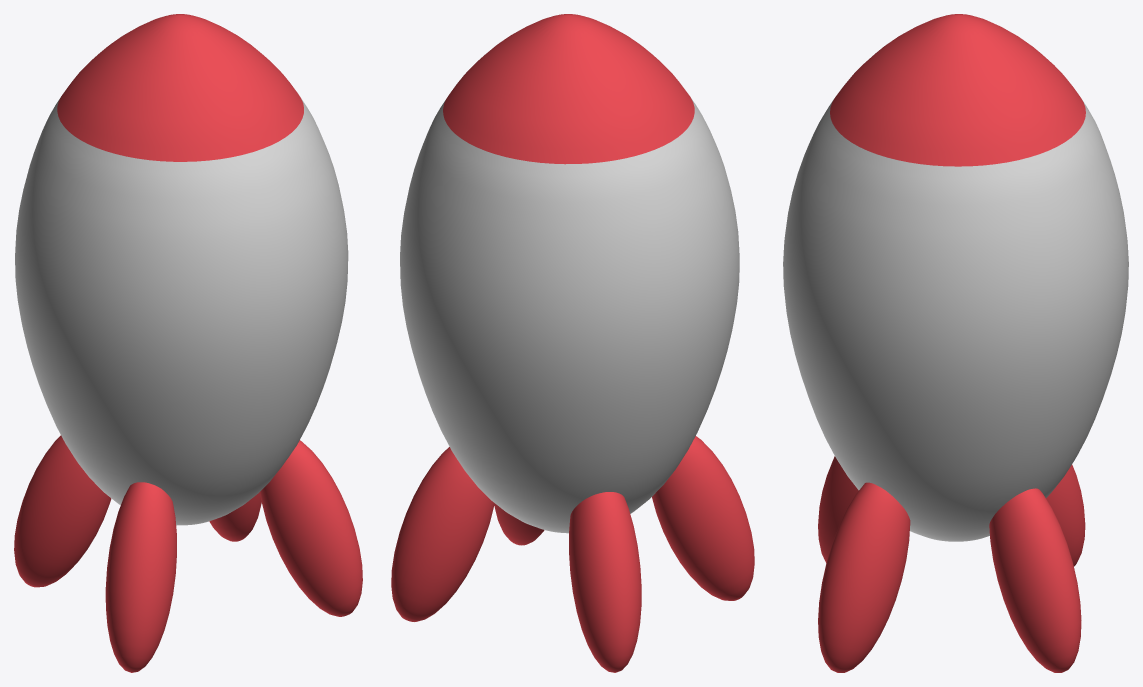
File: moon_scene3.fbx
3 renders of one model, left to right at view 1: azimuth 30°, elevation 25°; view 2: azimuth 150°, elevation 25°; view 3: azimuth 270°, elevation 25°, orthographic. The views are drawn at different scales.
Visible parts, largest first — view 1: Sphere.001, Sphere.002, Leg, Leg.001, Leg.003, Leg.002; view 2: Sphere.001, Sphere.002, Leg.002, Leg.001, Leg.003, Leg; view 3: Sphere.001, Sphere.002, Leg, Leg.002, Leg.001, Leg.003.
Boxes of the visible parts, x1=… form: Sphere.001: x1=15, y1=97, x2=348, y2=525; Sphere.002: x1=57, y1=14, x2=303, y2=161; Leg: x1=260, y1=440, x2=362, y2=616; Leg.001: x1=105, y1=482, x2=176, y2=672; Leg.003: x1=14, y1=435, x2=111, y2=587; Leg.002: x1=209, y1=492, x2=261, y2=541; Sphere.001: x1=400, y1=98, x2=739, y2=533; Sphere.002: x1=443, y1=14, x2=694, y2=164; Leg.002: x1=391, y1=447, x2=494, y2=621; Leg.001: x1=652, y1=436, x2=754, y2=600; Leg.003: x1=569, y1=492, x2=641, y2=672; Leg: x1=494, y1=503, x2=544, y2=545; Sphere.001: x1=783, y1=98, x2=1128, y2=541; Sphere.002: x1=830, y1=14, x2=1085, y2=166; Leg: x1=818, y1=482, x2=910, y2=672; Leg.002: x1=989, y1=488, x2=1081, y2=672; Leg.001: x1=818, y1=456, x2=858, y2=562; Leg.003: x1=1046, y1=464, x2=1085, y2=566.
Size of what is drawn, in the model's own units: 240 by 468 by 241.
